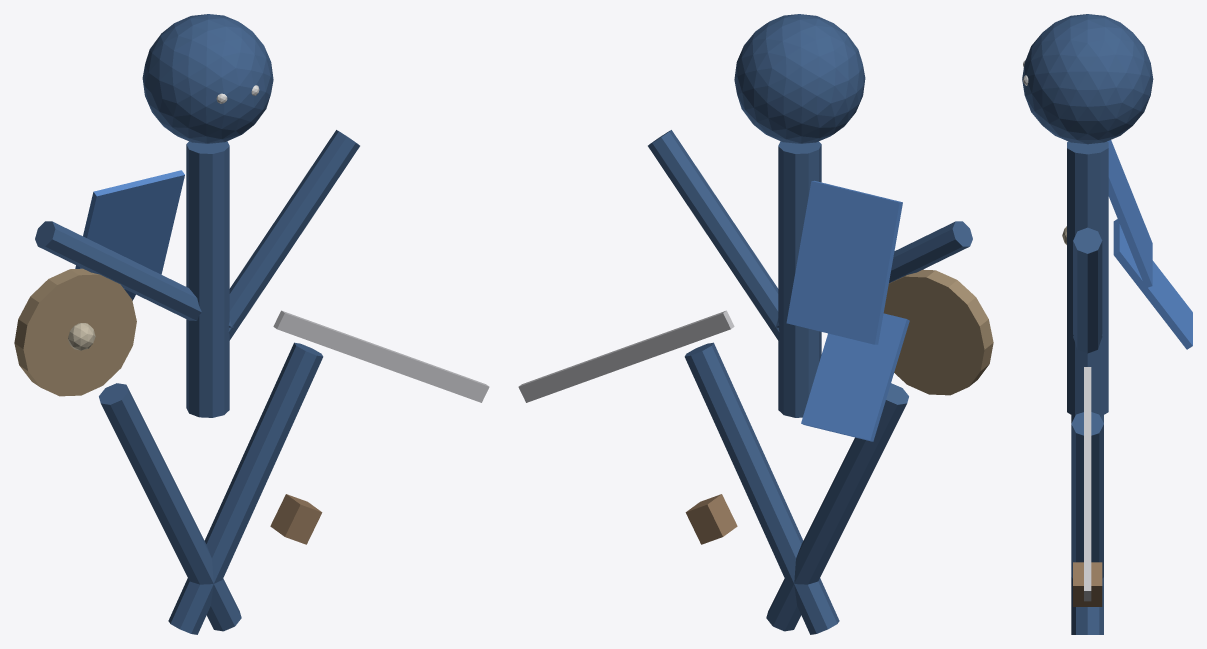
File: player_stick_blue_shield.glb
3 renders of one model, left to right at view 1: azimuth 30°, elevation 25°; view 2: azimuth 150°, elevation 25°; view 3: azimuth 270°, elevation 25°, orthographic.
Visible parts, largest first — view 1: head, torso, shield, leg_r, leg_l, cape_top, arm_r, arm_l, blade, hilt; view 2: cape_top, head, shield, leg_r, torso, cape_bottom, leg_l, arm_r, blade, arm_l, hilt; view 3: head, torso, leg_r, arm_r, cape_bottom, cape_top, blade, leg_l, hilt.
Boxes of the visible parts, box(x1,y1,x2,y2) form: head: box(142, 14, 273, 143); torso: box(186, 141, 229, 417); shield: box(14, 268, 136, 396); leg_r: box(168, 342, 323, 634); leg_l: box(99, 383, 241, 631); cape_top: box(75, 170, 184, 274); arm_r: box(228, 130, 359, 340); arm_l: box(35, 221, 233, 328); blade: box(273, 310, 489, 402); hilt: box(270, 494, 322, 544); cape_top: box(786, 180, 902, 344); head: box(734, 14, 865, 143); shield: box(883, 269, 993, 395); leg_r: box(684, 342, 839, 634); torso: box(778, 141, 821, 417); cape_bottom: box(801, 313, 909, 441); leg_l: box(766, 383, 908, 631); arm_r: box(648, 130, 779, 340); blade: box(518, 310, 734, 402); arm_l: box(774, 221, 972, 328); hilt: box(685, 494, 737, 544); head: box(1022, 14, 1153, 144); torso: box(1067, 141, 1108, 416); leg_r: box(1071, 412, 1103, 578); arm_r: box(1073, 227, 1102, 353); cape_bottom: box(1113, 219, 1192, 349); cape_top: box(1107, 140, 1152, 287); blade: box(1084, 367, 1091, 601); leg_l: box(1071, 415, 1103, 634); hilt: box(1073, 562, 1102, 606).
Bounding box in the file's own units: 1.49 × 1.85 × 0.4686.
